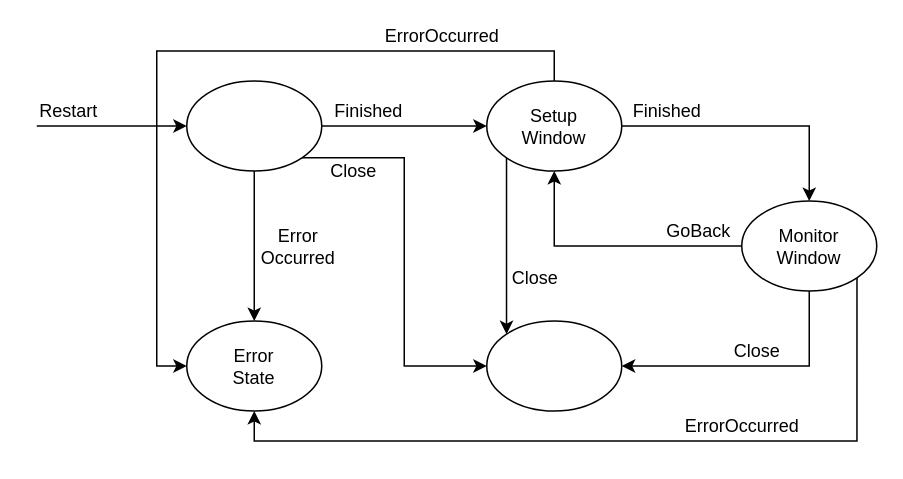
The diagram is 903 pixels wide and 479 high, and some of its shapes have lost their labels. The centre of each missing label's shape, as x and y in pixels:
Close State: point (553, 365)
Initial Window: point (253, 125)
